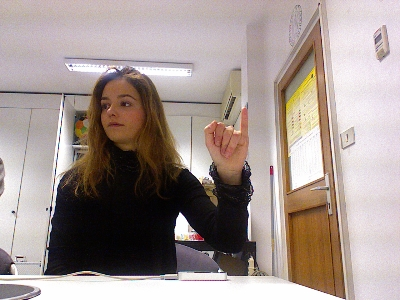小指: (202, 105, 249, 175)
